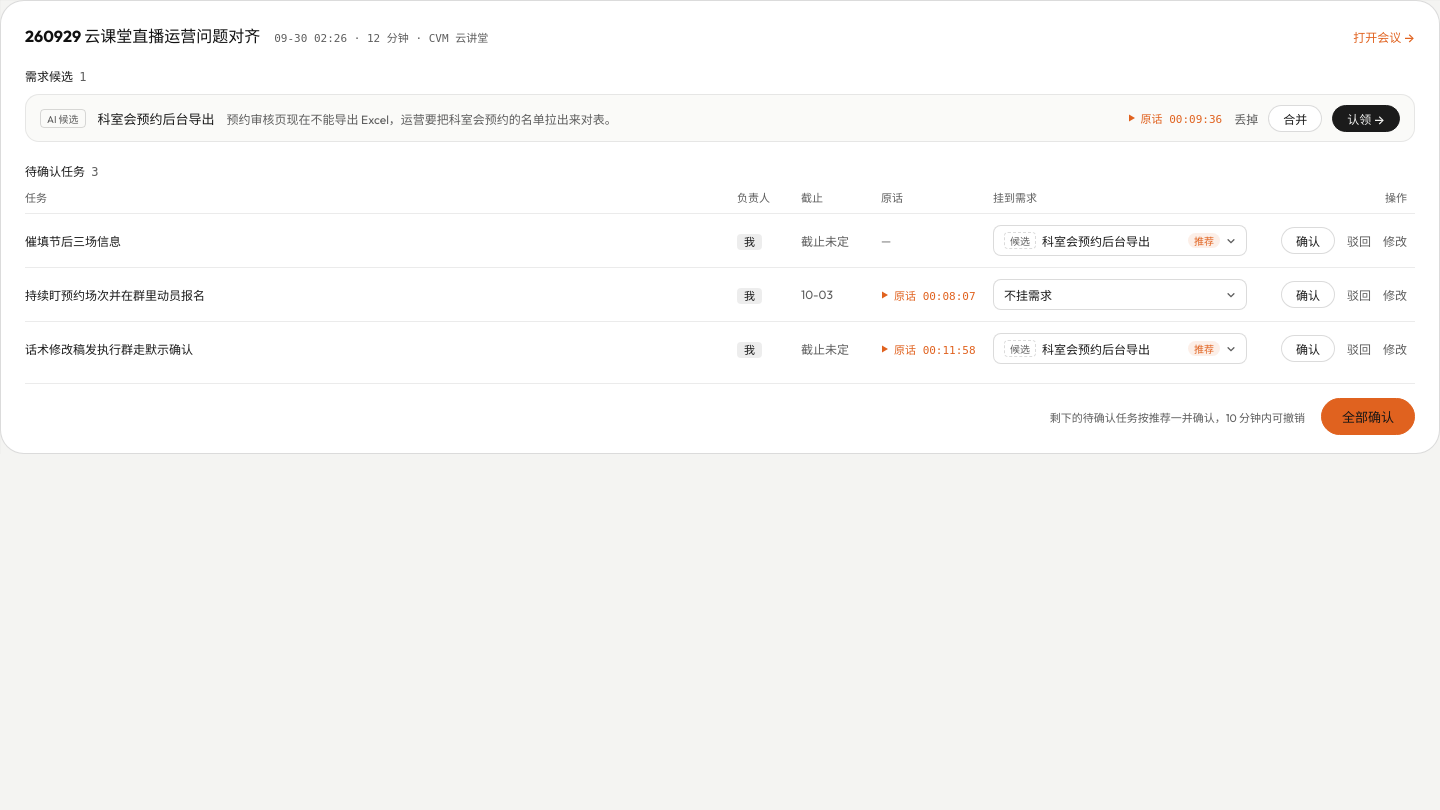
Test: ReviewCardsPanel › 合并：弹窗里选了需求合并成功后提示合并到哪条并重新取数
Check: the element "260929" is shown, box [0, 0, 1439, 454]
Click the button with aria-label "合并「": (1295, 118) [1268, 104, 1322, 132]
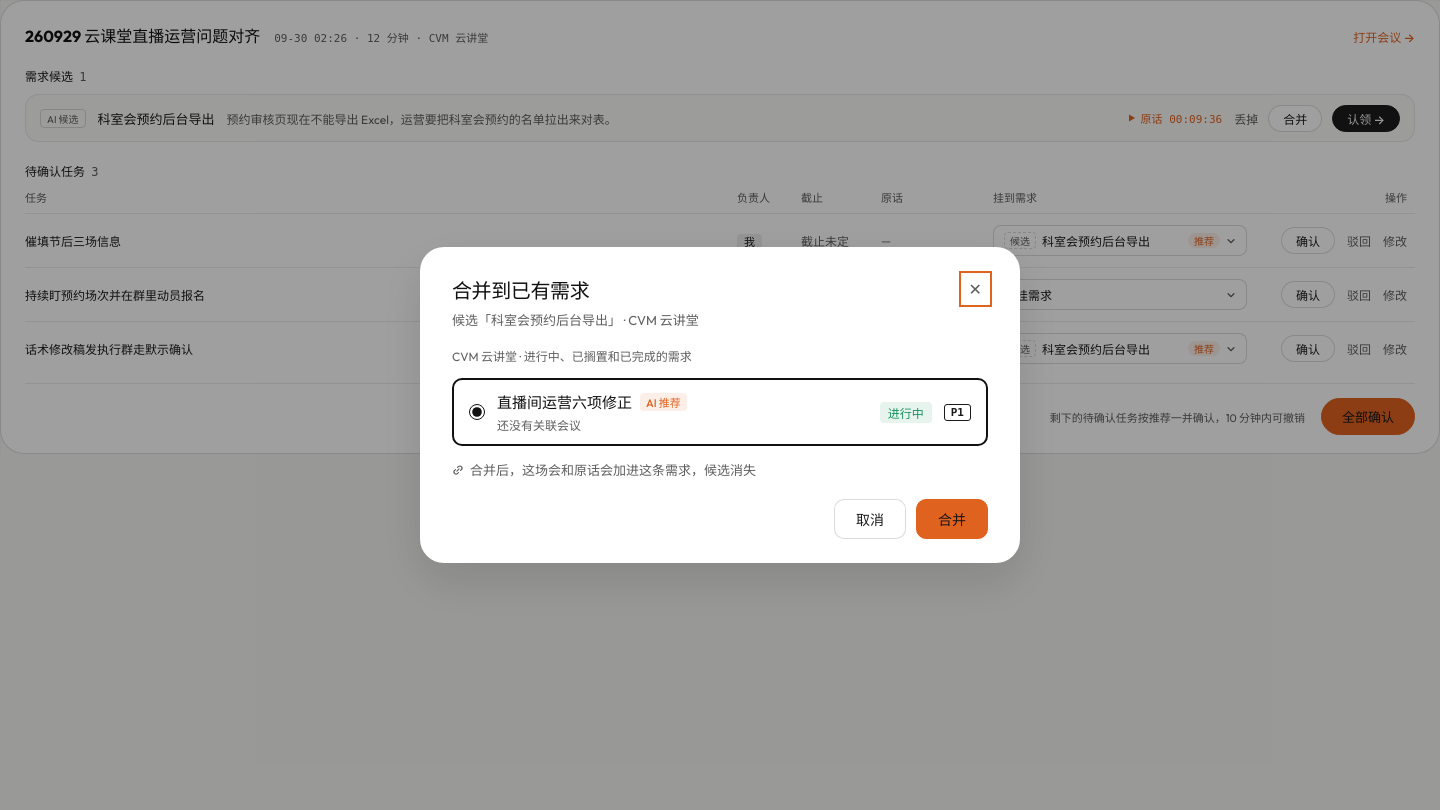
Click the radio button: (477, 412) [469, 404, 485, 420]
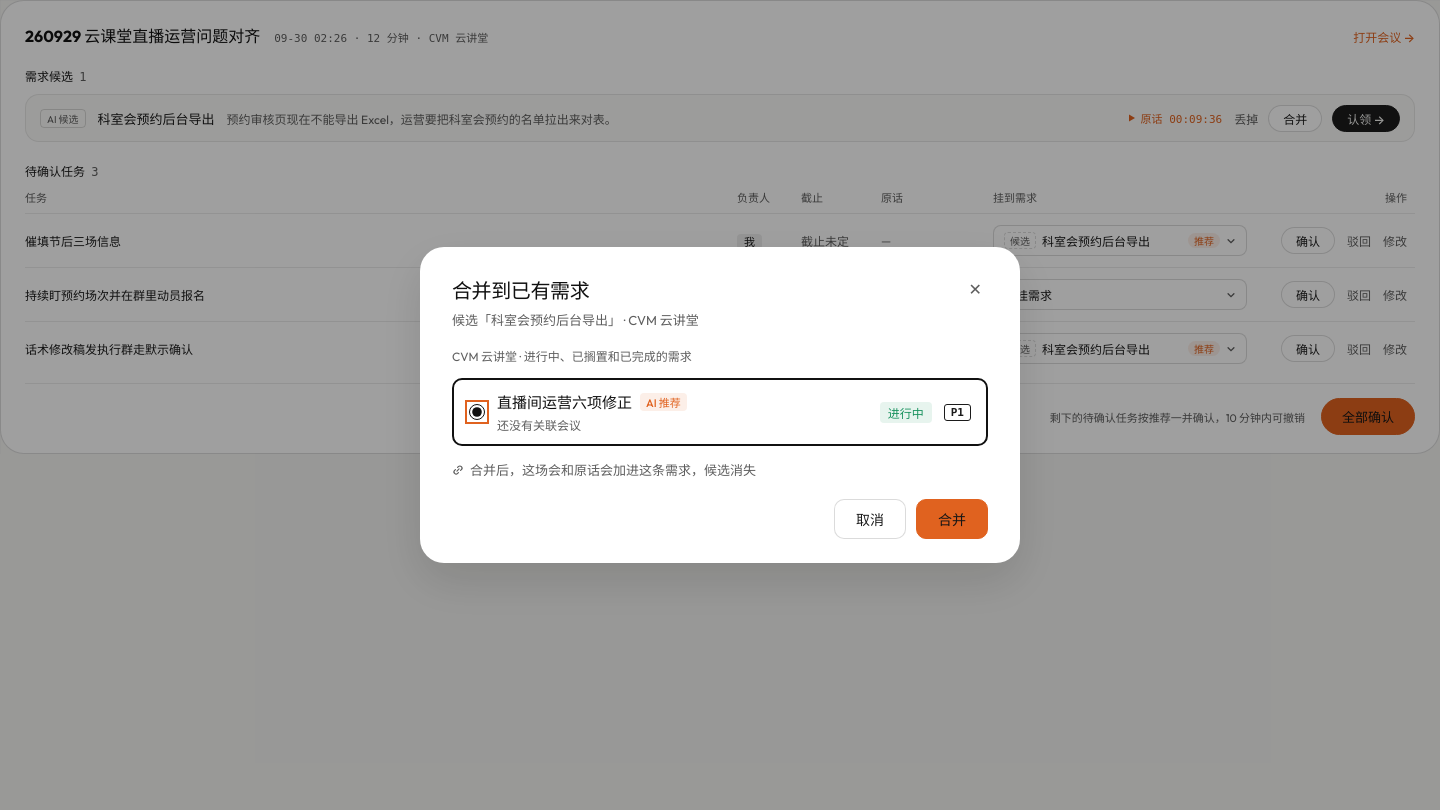
Click the button "合并": (952, 519) [916, 499, 988, 539]
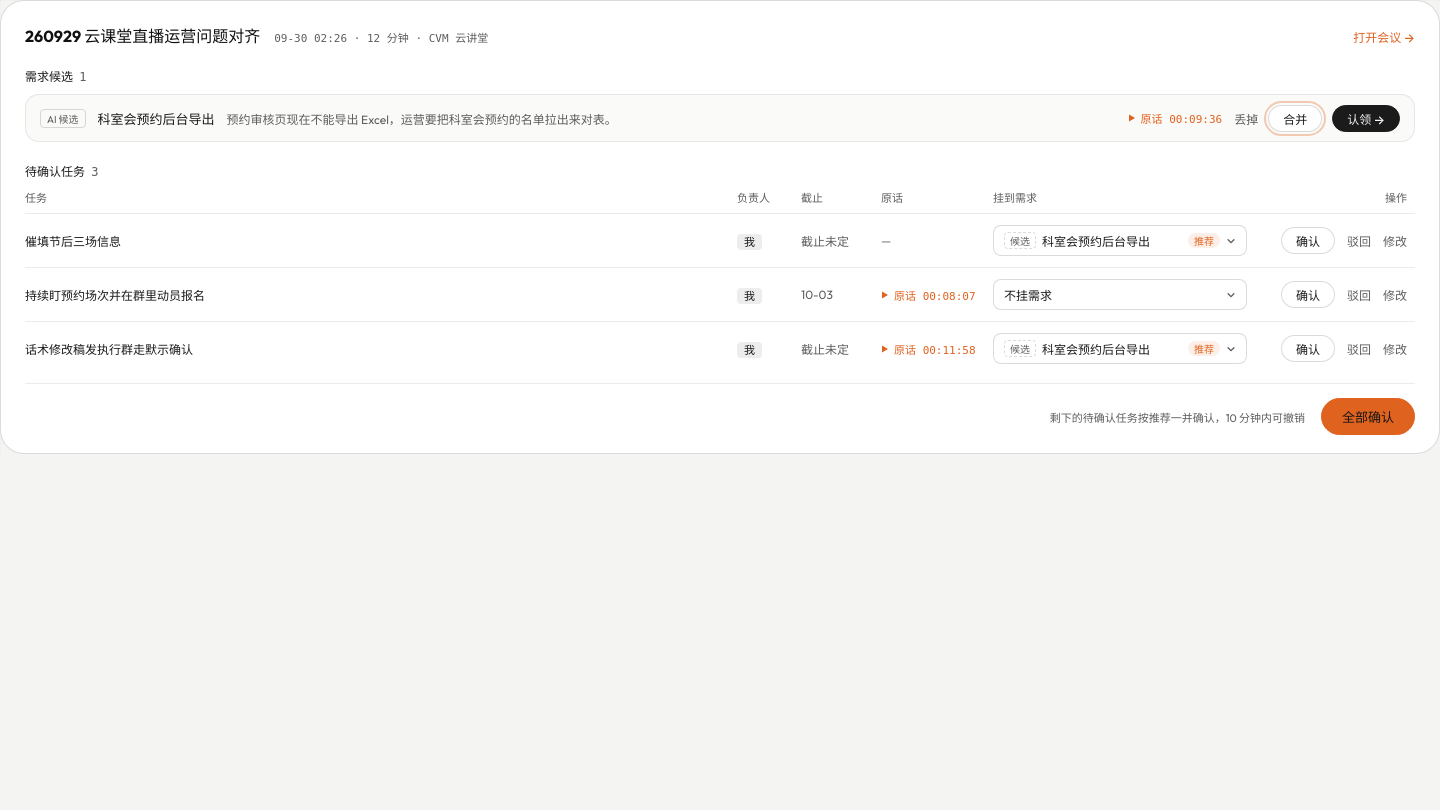
Check: the heading "合并到已有需求" is gone
